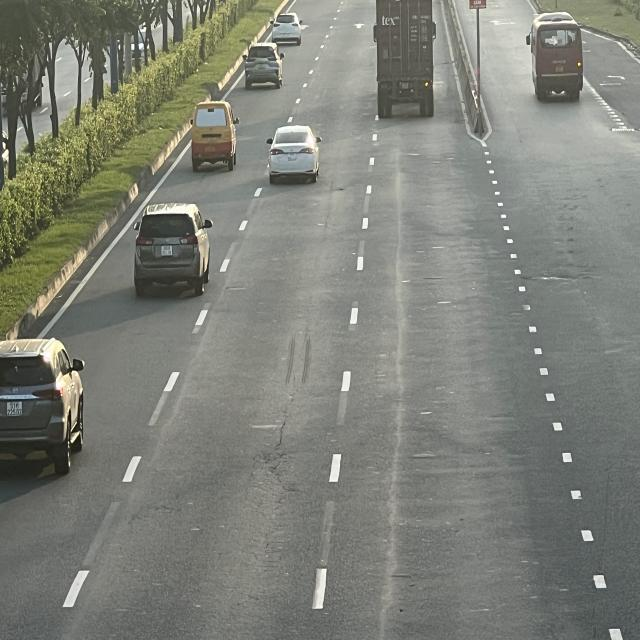car: (0, 335, 85, 473), (132, 200, 212, 293), (266, 124, 323, 181), (240, 43, 284, 88), (271, 12, 303, 46)
coach: (528, 11, 584, 98)
container: (374, 0, 433, 111)
van: (192, 99, 242, 171)
